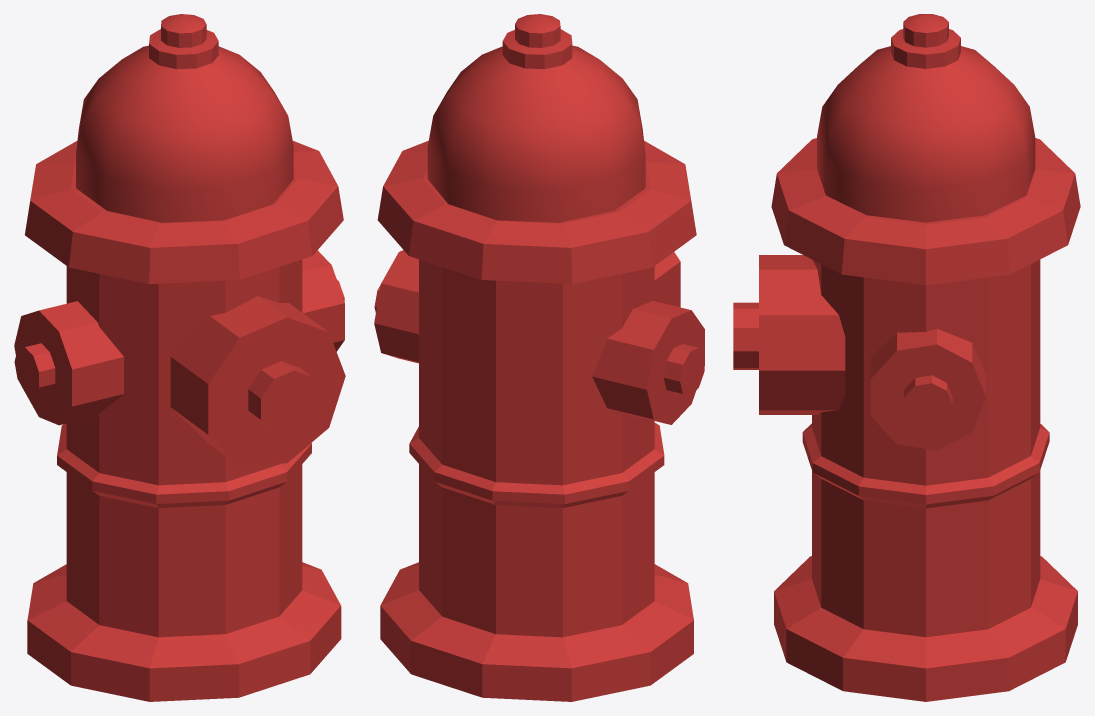
Rendered from Park_Brandkraan (1).fbx.
3 views of the same model, side by side, from view 1: azimuth 30°, elevation 25°; view 2: azimuth 150°, elevation 25°; view 3: azimuth 270°, elevation 25° (orthographic).
Parts seen in each view (by area): view 1: pCylinder8; view 2: pCylinder8; view 3: pCylinder8.
Part boxes in pixels (<box>): pCylinder8: <box>14,14,345,701</box>; pCylinder8: <box>374,14,704,701</box>; pCylinder8: <box>733,14,1080,701</box>.
Bounding box in the file's own units: 1.46 × 2.85 × 1.44.
